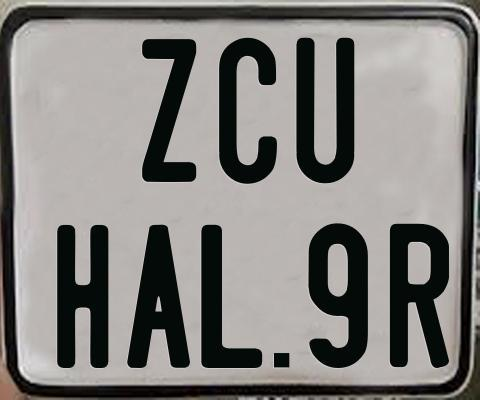9: (308, 223, 373, 369)
A: (126, 225, 193, 373)
C: (219, 38, 283, 187)
H: (56, 223, 114, 370)
L: (199, 223, 265, 366)
R: (387, 223, 449, 373)
U: (294, 35, 353, 181)
Z: (142, 37, 202, 185)
